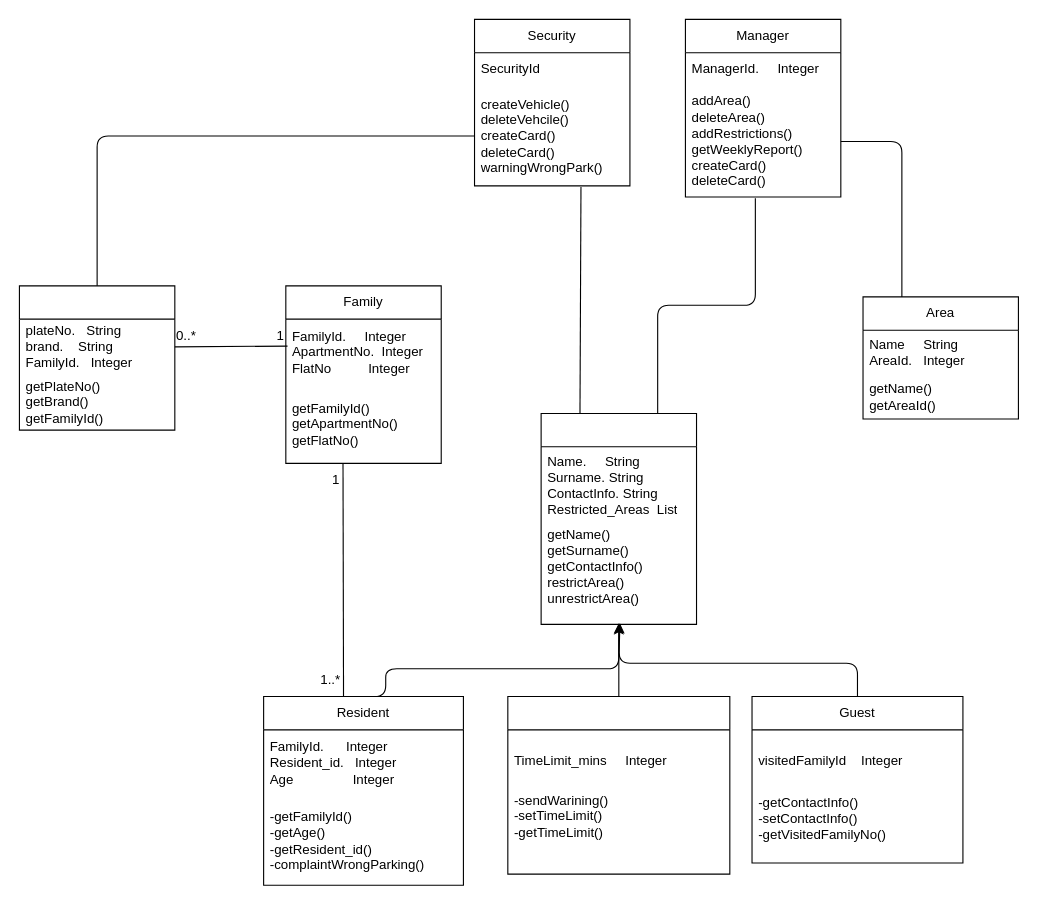
The diagram is 1038 pixels wide and 905 high, and some of its shapes have lost their labels. The shapes that lost their labels are listed below. From the top down, each one's box as (x1, y1, x2, y2) in pixels, then its label:
(18, 285, 175, 430): Vehicle
(540, 412, 697, 624): Card Owner
(507, 695, 730, 874): Courier
